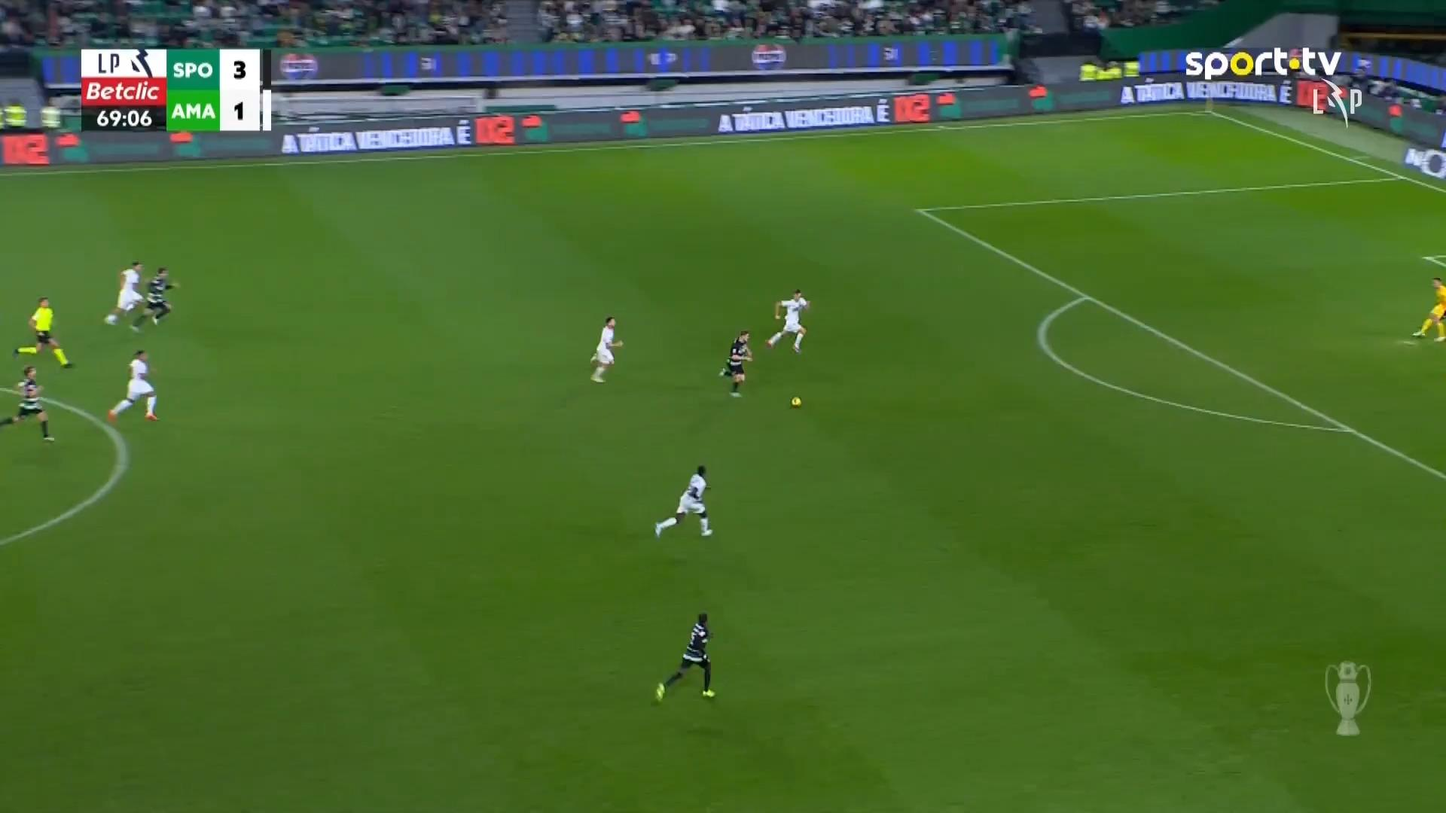ball: (654, 683, 664, 701), (790, 396, 801, 407)
goalkeeper: (1411, 276, 1444, 342)
player: (653, 463, 714, 538), (1, 364, 55, 443), (106, 349, 159, 422), (130, 266, 178, 332), (764, 288, 810, 354), (102, 259, 145, 326), (719, 328, 753, 397), (589, 315, 624, 382)
referee: (11, 296, 73, 368)
